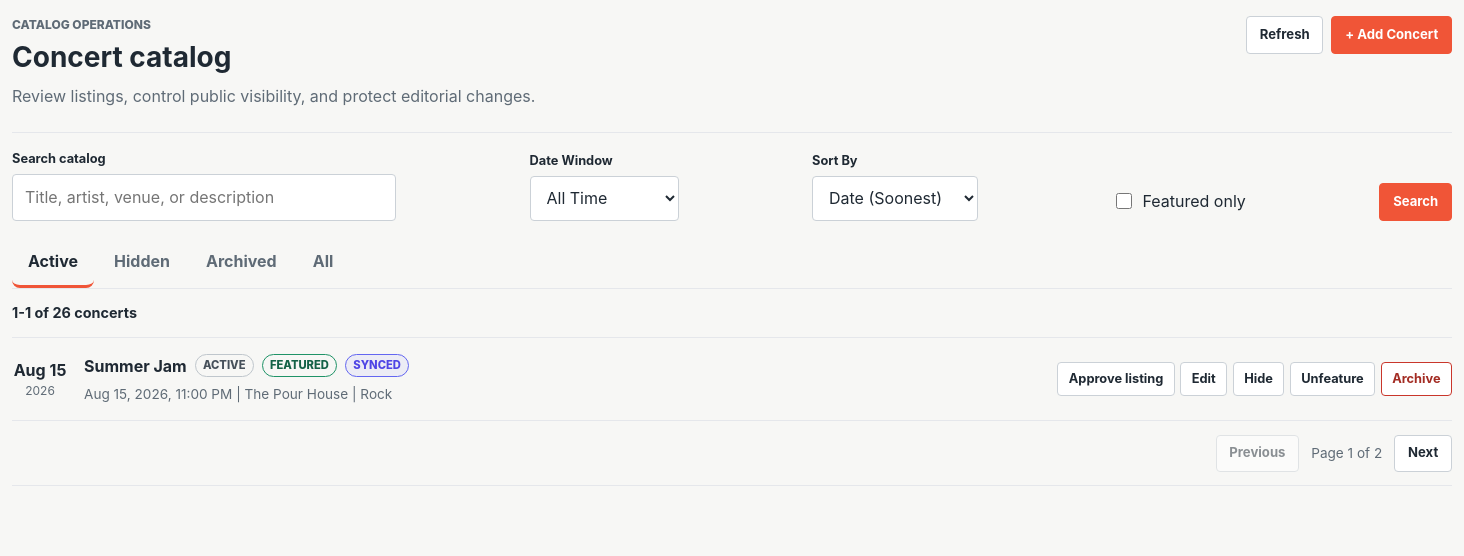
Test: AdminConcertsPage › reloads totals after a successful mutation changes the filtered result set
This screenshot has width=1464, height=556.
Step 1. Click the button "Hide" → (1259,379), box [1233,362,1284,396]
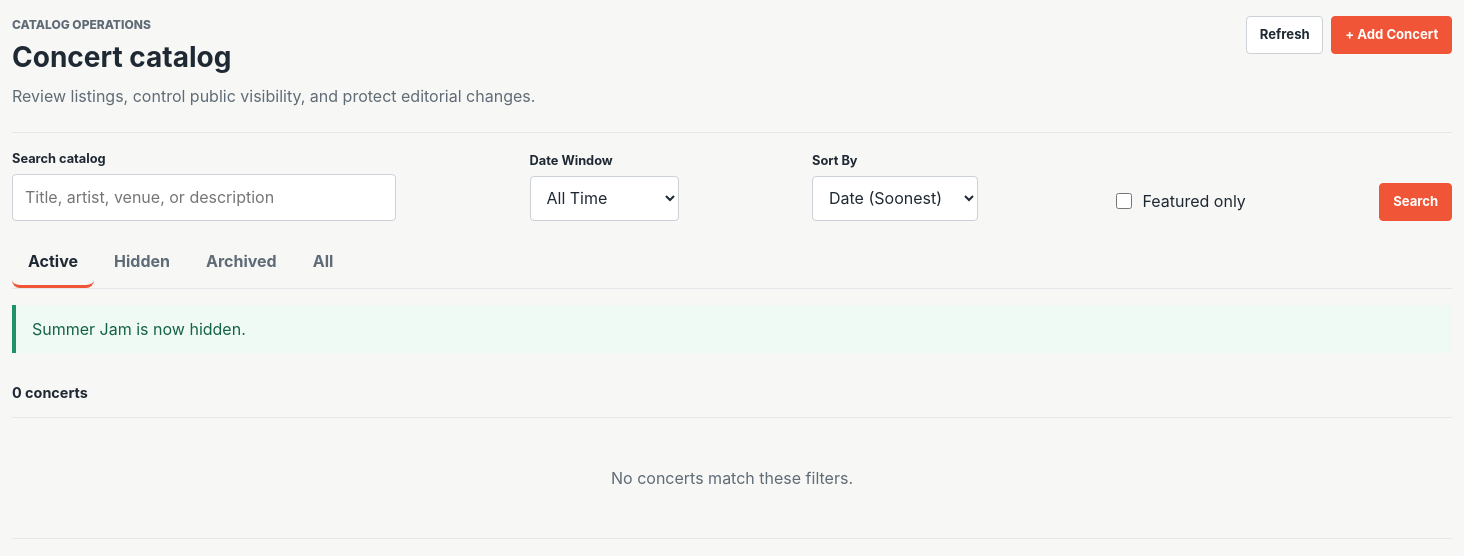
Result: the text "0 concerts" is shown at [12,382,88,403]
